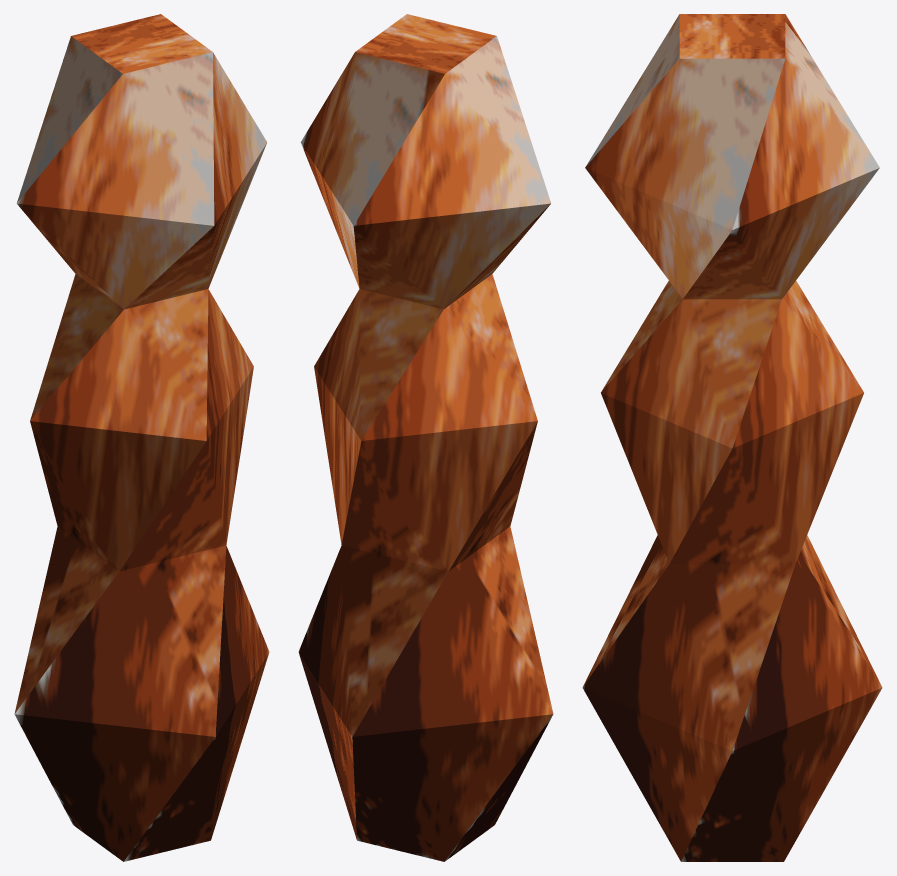
The model's file is fur_grapple.glb.
The picture shows the model from 3 angles, left to right: view 1: azimuth 30°, elevation 25°; view 2: azimuth 150°, elevation 25°; view 3: azimuth 270°, elevation 25°; orthographic projection.
Parts seen in each view (by area): view 1: Cube; view 2: Cube; view 3: Cube.
Part boxes in pixels (left/top/right/bottom): Cube: left=14, top=14, right=269, bottom=861; Cube: left=298, top=14, right=553, bottom=861; Cube: left=582, top=14, right=882, bottom=861.
Bounding box in the file's own units: 3.55 × 10.5 × 3.55.
Materials: 1 (1 with a texture image).
